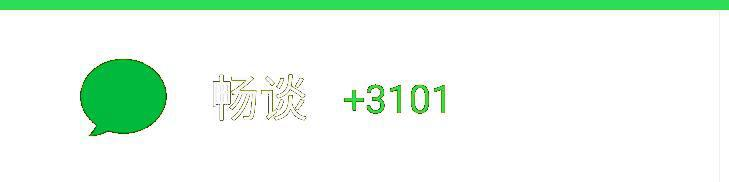CheckedTextView: (1, 1, 728, 181)
